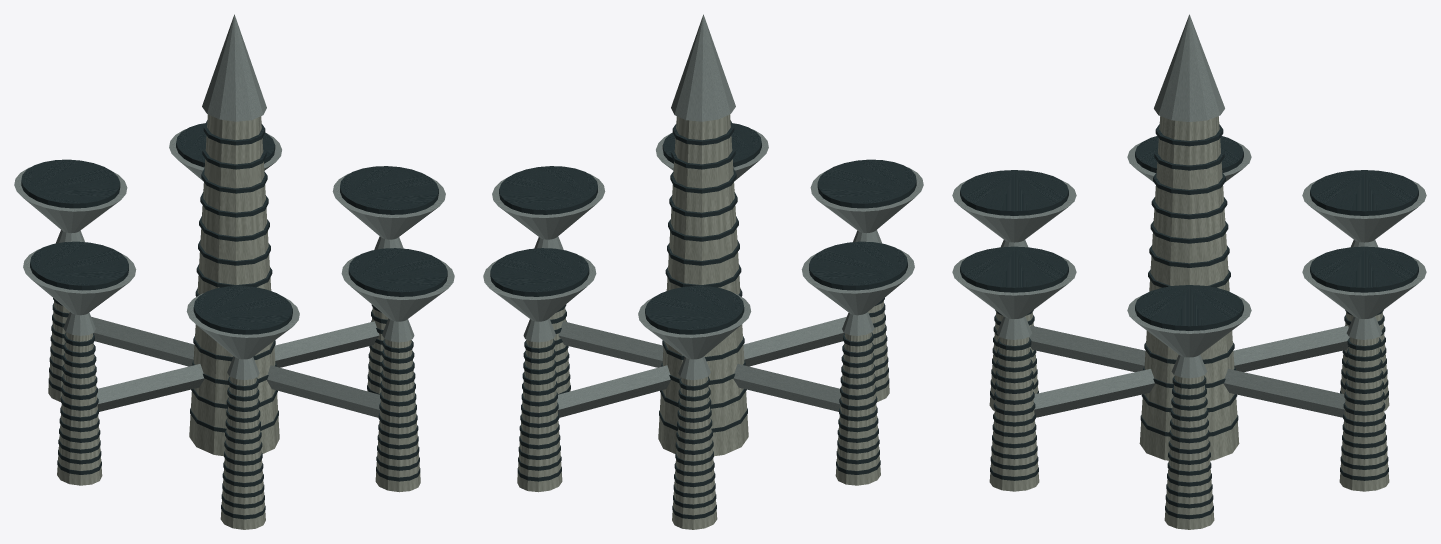
The model's file is observatory_array_01.fbx.
3 views of the same model, side by side, from view 1: azimuth 30°, elevation 25°; view 2: azimuth 150°, elevation 25°; view 3: azimuth 270°, elevation 25° (orthographic).
Parts seen in each view (by area): view 1: observatory_array_01_LOD0; view 2: observatory_array_01_LOD0; view 3: observatory_array_01_LOD0.
Boxes of the visible parts, bbox=[...] form: observatory_array_01_LOD0: bbox=[14, 14, 454, 529]; observatory_array_01_LOD0: bbox=[483, 14, 923, 529]; observatory_array_01_LOD0: bbox=[952, 14, 1426, 529].
Size of what is drawn, in the model's own units: 1 by 1 by 1.
